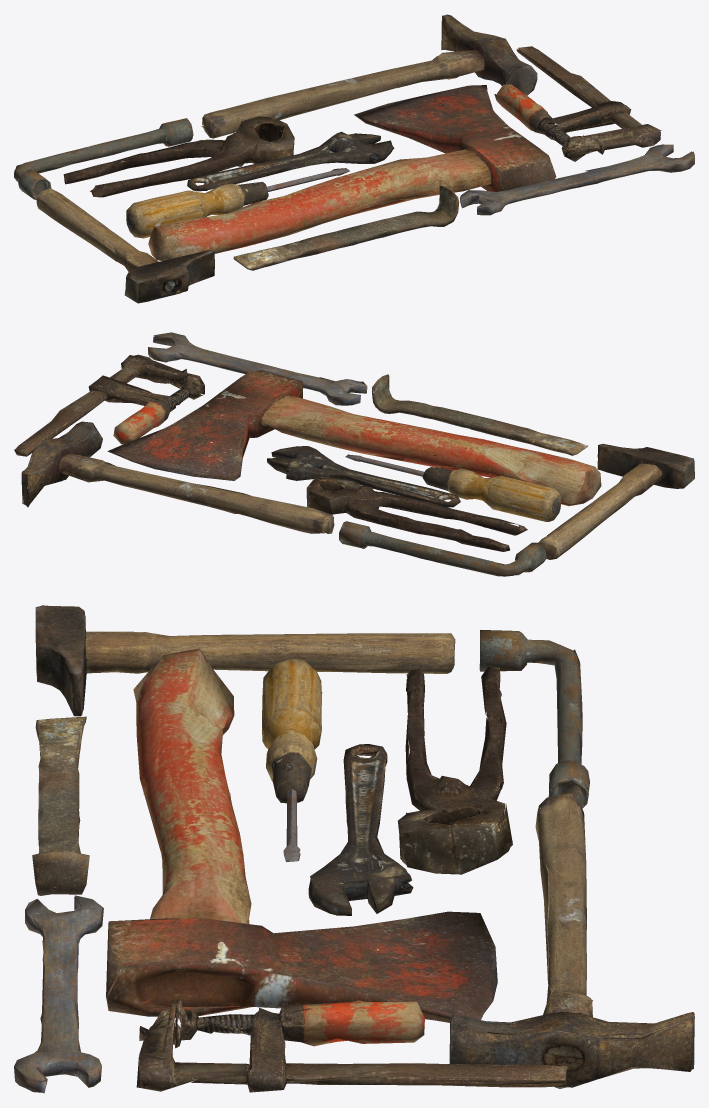
The model's file is tools_set.glb.
The picture shows the model from 3 angles, top to bottom: view 1: azimuth 30°, elevation 25°; view 2: azimuth 150°, elevation 25°; view 3: azimuth 270°, elevation 25°; orthographic projection. The views are drawn at different scales.
Parts seen in each view (by area): view 1: hatchet_lod3_hatchet_LOD3_0, hammer2_lod3_hammer2_LOD3_0, clamp_lod3_clamp_LOD3_0, pliers_lod3_pliers_LOD3_0, hammer1_lod3_hammer1_LOD3_0, screwdriver_lod3_screwdriver_LOD3_0, prybar_lod3_prybar_LOD3_0, wrench_lod3_wrench_LOD3_0, adjustable_wrench_lod3_adjustable_wrench_LOD3_0, socket_wrench_lod3_socket_wrench_LOD3_0; view 2: hatchet_lod3_hatchet_LOD3_0, hammer2_lod3_hammer2_LOD3_0, clamp_lod3_clamp_LOD3_0, pliers_lod3_pliers_LOD3_0, hammer1_lod3_hammer1_LOD3_0, screwdriver_lod3_screwdriver_LOD3_0, wrench_lod3_wrench_LOD3_0, prybar_lod3_prybar_LOD3_0, socket_wrench_lod3_socket_wrench_LOD3_0, adjustable_wrench_lod3_adjustable_wrench_LOD3_0; view 3: hatchet_lod3_hatchet_LOD3_0, hammer2_lod3_hammer2_LOD3_0, clamp_lod3_clamp_LOD3_0, hammer1_lod3_hammer1_LOD3_0, pliers_lod3_pliers_LOD3_0, wrench_lod3_wrench_LOD3_0, adjustable_wrench_lod3_adjustable_wrench_LOD3_0, prybar_lod3_prybar_LOD3_0, screwdriver_lod3_screwdriver_LOD3_0, socket_wrench_lod3_socket_wrench_LOD3_0.
Boxes of the visible parts, x1,y1,x2,y2 form: hatchet_lod3_hatchet_LOD3_0: (148,85,556,260); hammer2_lod3_hammer2_LOD3_0: (201,14,537,138); clamp_lod3_clamp_LOD3_0: (494,46,661,161); pliers_lod3_pliers_LOD3_0: (63,116,294,197); hammer1_lod3_hammer1_LOD3_0: (36,188,214,303); screwdriver_lod3_screwdriver_LOD3_0: (126,168,349,238); prybar_lod3_prybar_LOD3_0: (233,185,459,270); wrench_lod3_wrench_LOD3_0: (460,144,694,215); adjustable_wrench_lod3_adjustable_wrench_LOD3_0: (187,131,394,191); socket_wrench_lod3_socket_wrench_LOD3_0: (14,118,193,199); hatchet_lod3_hatchet_LOD3_0: (107,370,601,506); hammer2_lod3_hammer2_LOD3_0: (21,421,334,533); clamp_lod3_clamp_LOD3_0: (14,354,204,456); pliers_lod3_pliers_LOD3_0: (306,476,527,551); hammer1_lod3_hammer1_LOD3_0: (538,444,694,559); screwdriver_lod3_screwdriver_LOD3_0: (345,454,561,521); wrench_lod3_wrench_LOD3_0: (148,332,367,405); prybar_lod3_prybar_LOD3_0: (372,374,587,455); socket_wrench_lod3_socket_wrench_LOD3_0: (339,521,546,576); adjustable_wrench_lod3_adjustable_wrench_LOD3_0: (267,446,460,507); hatchet_lod3_hatchet_LOD3_0: (106,648,497,1022); hammer2_lod3_hammer2_LOD3_0: (449,794,694,1088); clamp_lod3_clamp_LOD3_0: (136,999,567,1092); hammer1_lod3_hammer1_LOD3_0: (35,605,455,716); pliers_lod3_pliers_LOD3_0: (398,666,512,874); wrench_lod3_wrench_LOD3_0: (14,895,103,1093); adjustable_wrench_lod3_adjustable_wrench_LOD3_0: (308,744,413,915); prybar_lod3_prybar_LOD3_0: (32,716,89,895); screwdriver_lod3_screwdriver_LOD3_0: (262,658,322,861); socket_wrench_lod3_socket_wrench_LOD3_0: (479,630,589,808).
Bounding box in the file's own units: 6.38 × 0.4524 × 3.95.
Materials: 10 (10 with a texture image).
